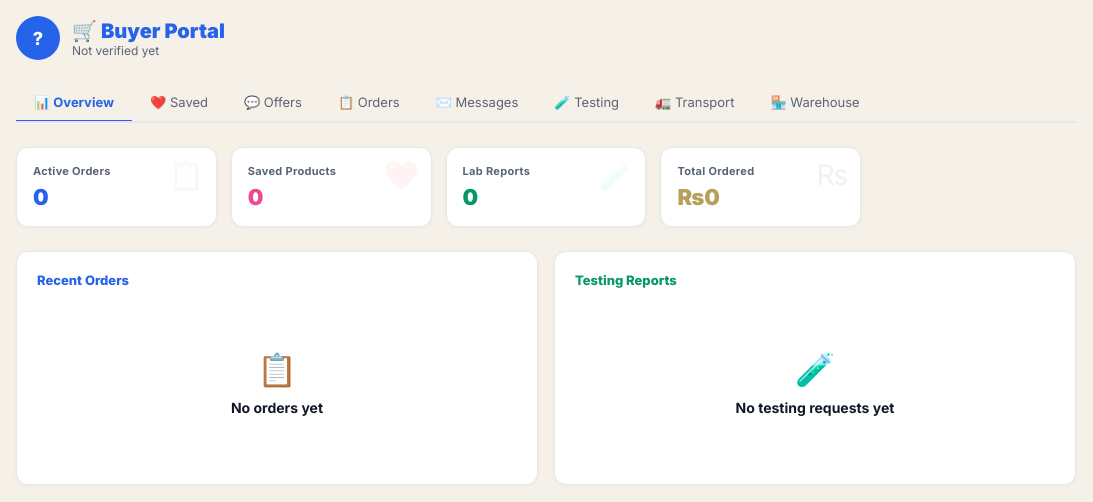
Test case: Buyer → Offers tab (counter-offer decisions) › a pending offer can only be withdrawn, not accepted
Click the tab "💬 Offers" at coordinates (273, 104), box [226, 84, 320, 123]
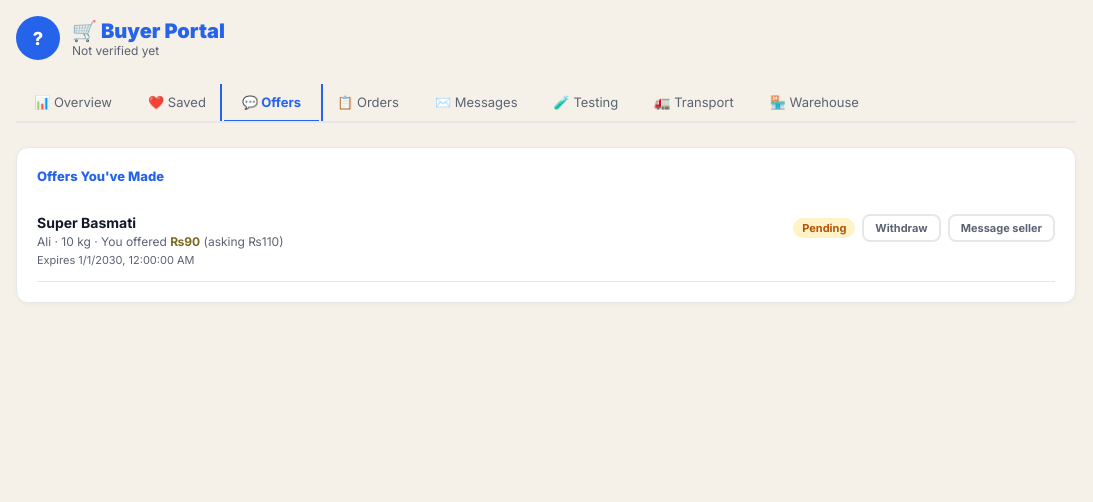
Expected: the button "Withdraw" is shown, [862, 214, 941, 242]
